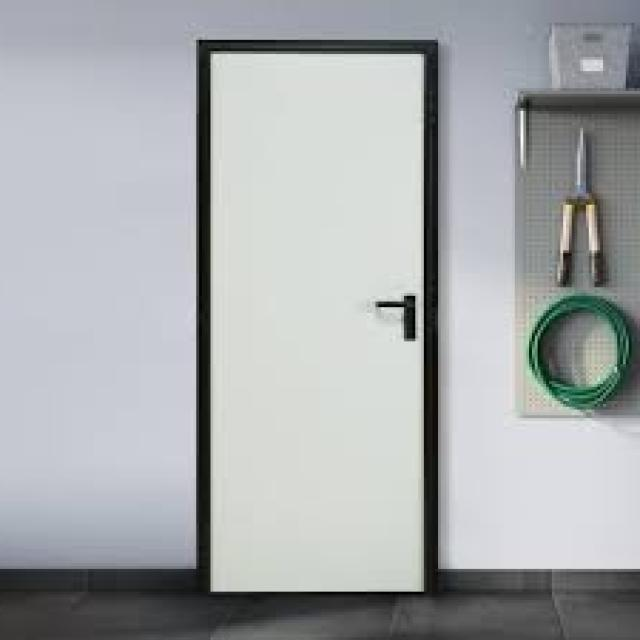door: (202, 37, 438, 594)
